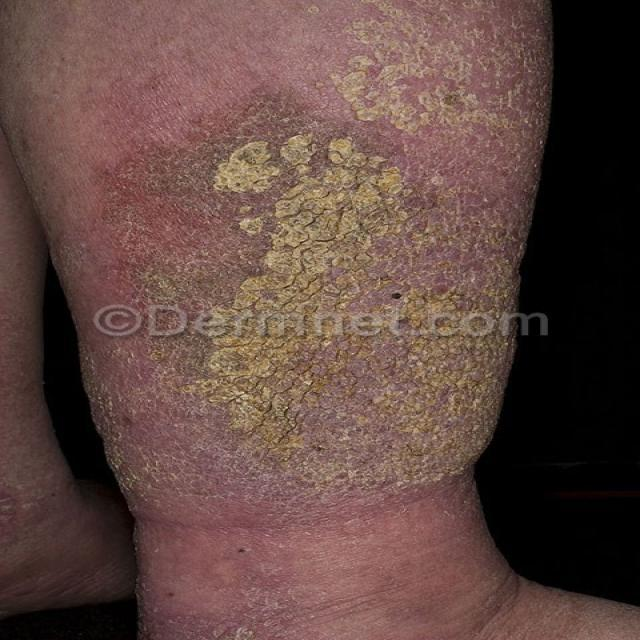Eczema: (88, 27, 540, 494)
